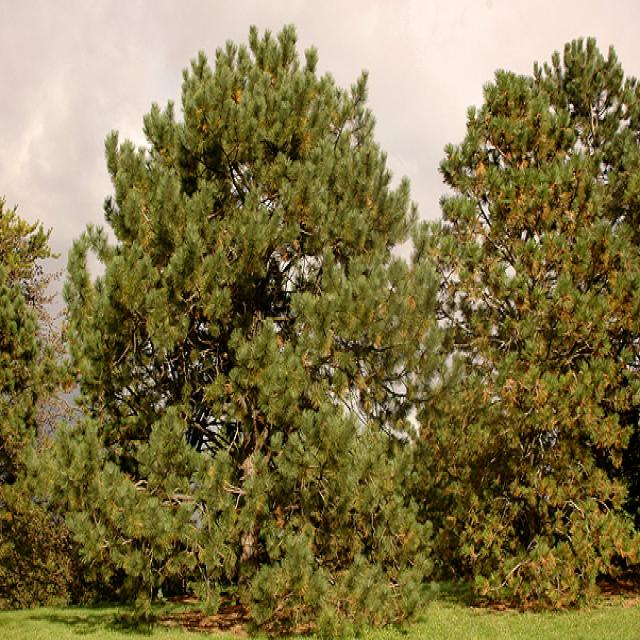Pinus ponderosa: (49, 28, 438, 640), (398, 19, 640, 607)
